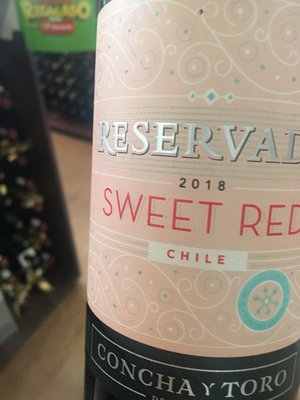reservado sweet red: (82, 1, 299, 399)
